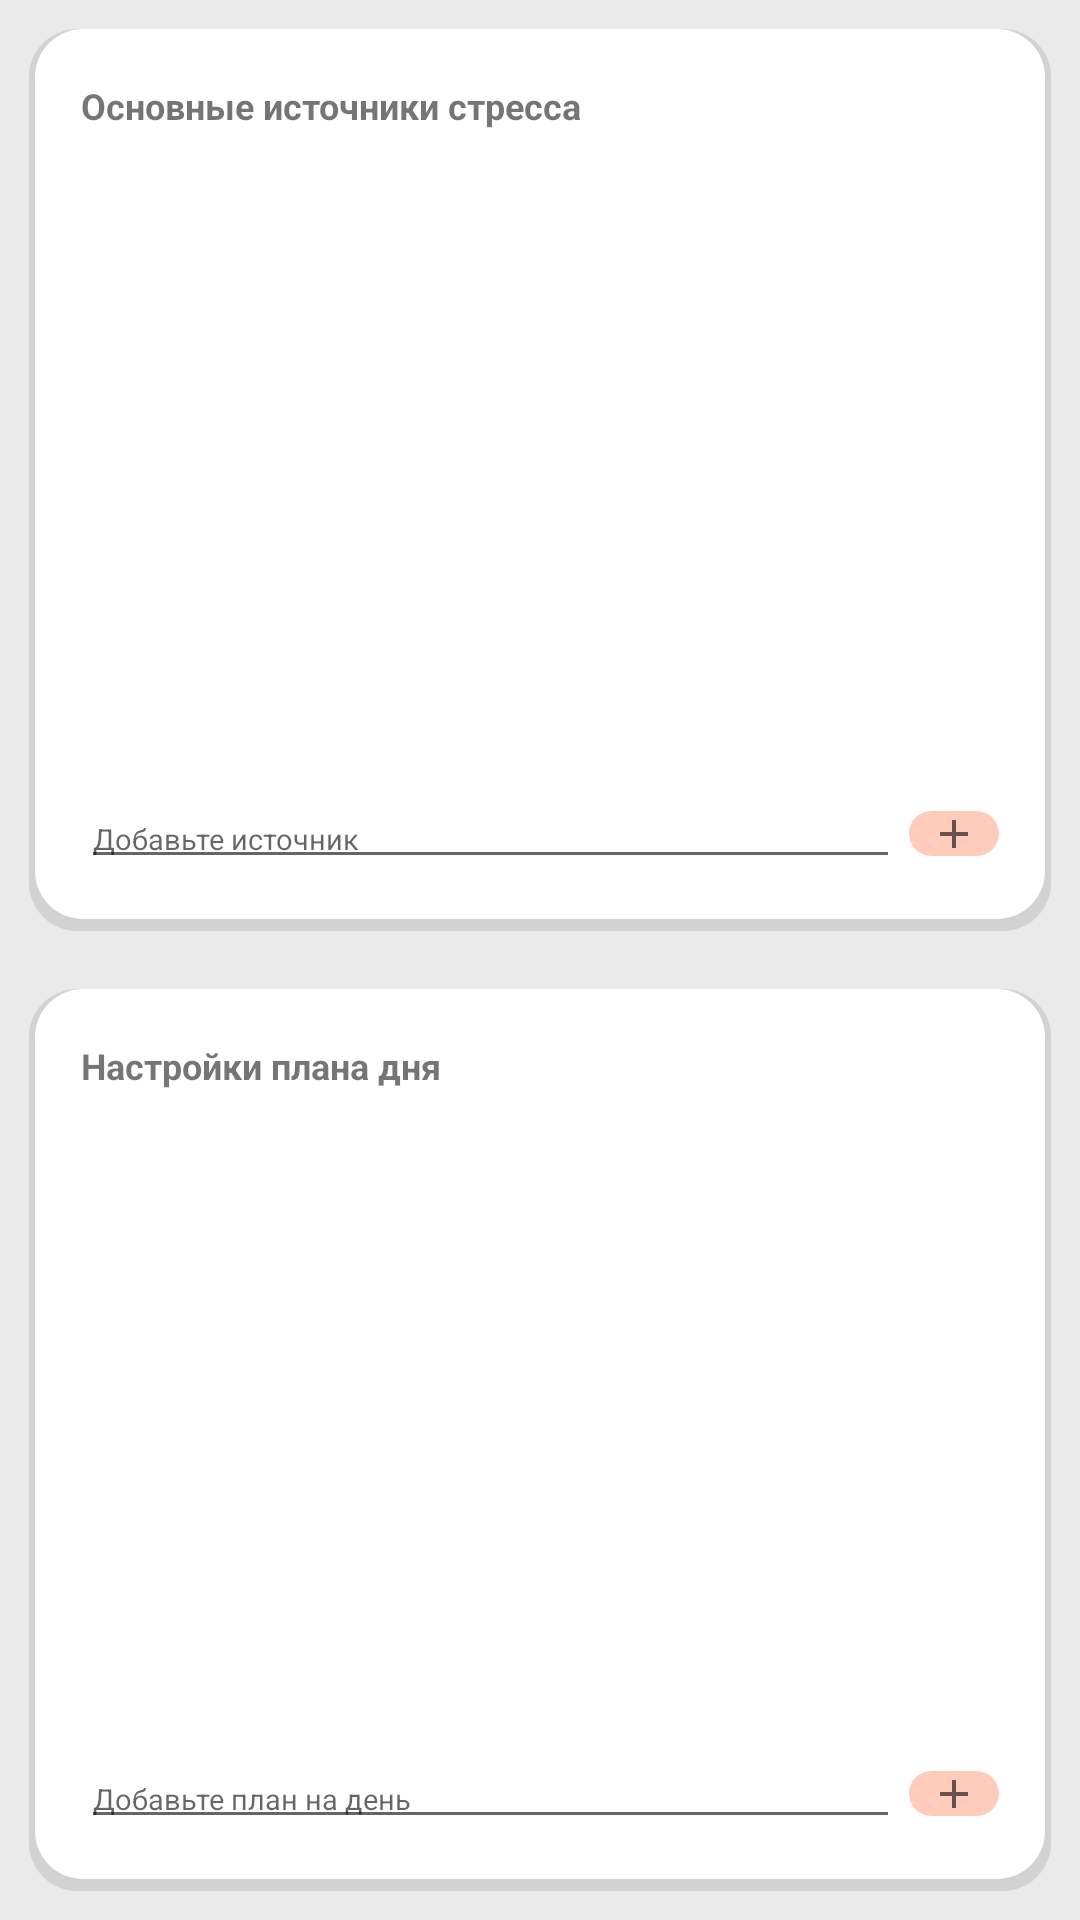

Locate icon controls on the screen. Image size 1080px x 1920px, boxes as (x1=x1, y1=y1, x2=x2, y2=y2).
add: (x1=909, y1=811, x2=999, y2=856), (x1=909, y1=1771, x2=999, y2=1816)
